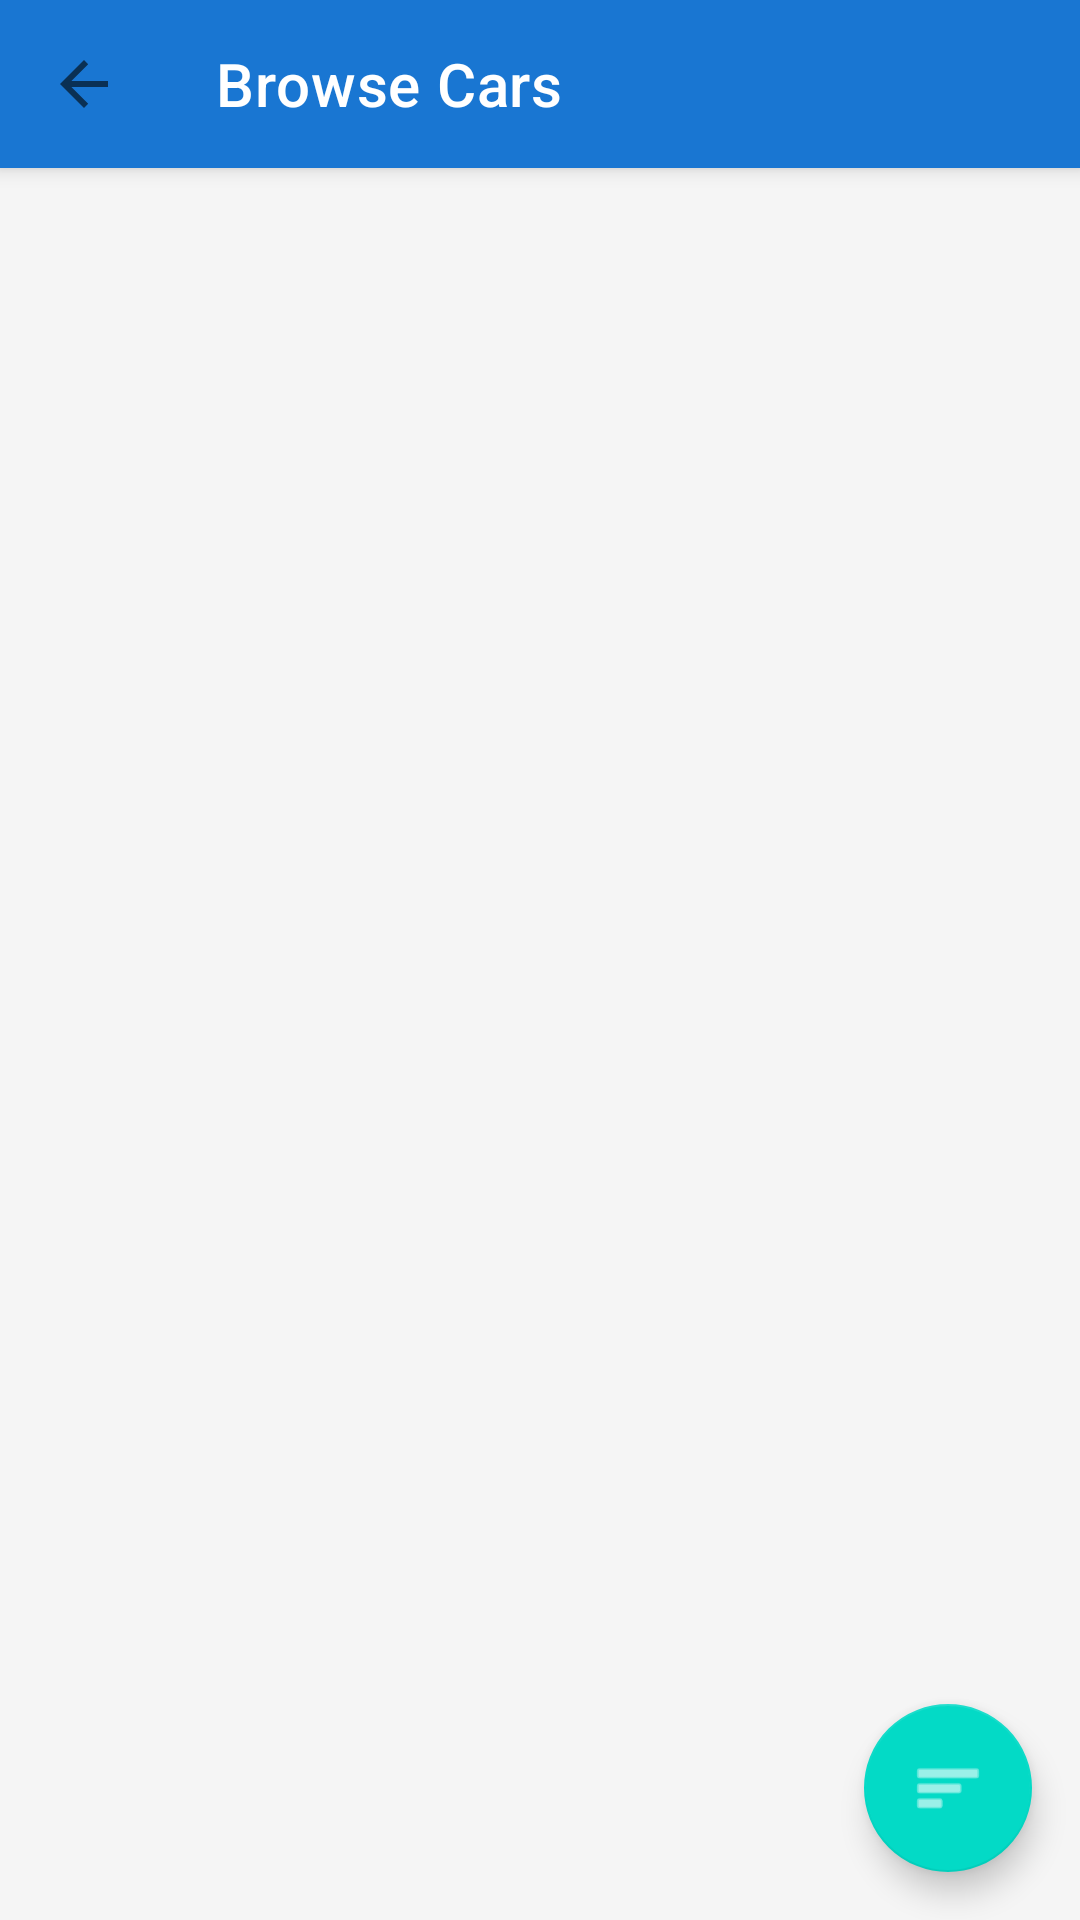

Icon bounding boxes for this 1080 × 1920 phone screenshot, format (x1, y1, x2, y2):
sort by size: (864, 1704, 1032, 1872)
